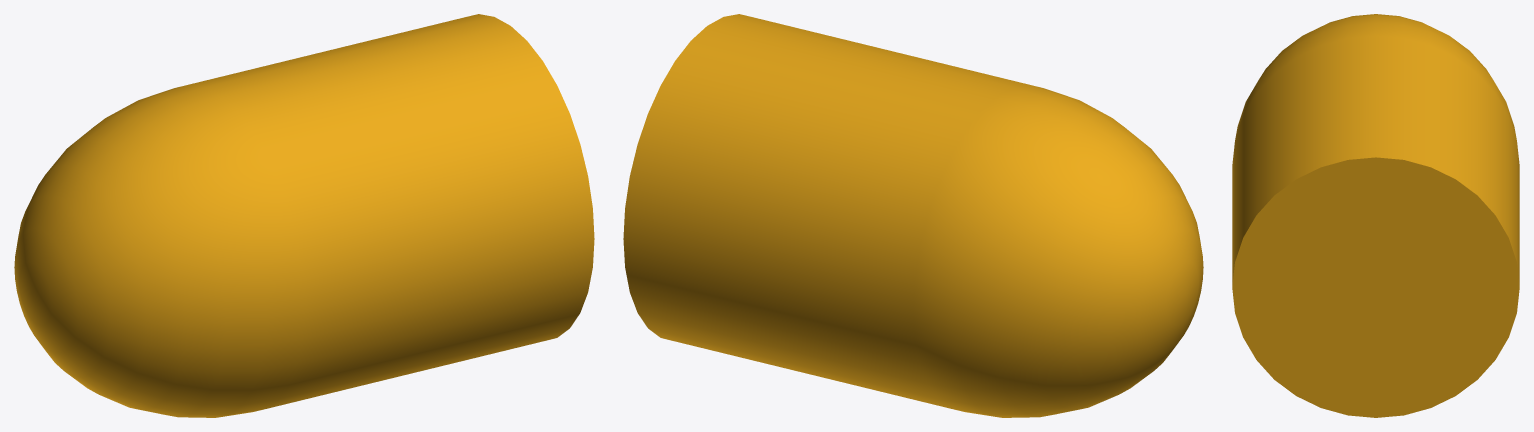
File: tank_shell.glb
The picture shows the model from 3 angles, left to right: view 1: azimuth 30°, elevation 25°; view 2: azimuth 150°, elevation 25°; view 3: azimuth 270°, elevation 25°; orthographic projection. The views are drawn at different scales.
Parts seen in each view (by area): view 1: Cylinder; view 2: Cylinder; view 3: Cylinder.
Part boxes in pixels (x1=…): Cylinder: x1=14, y1=14, x2=594, y2=417; Cylinder: x1=623, y1=14, x2=1203, y2=417; Cylinder: x1=1232, y1=14, x2=1519, y2=417.
Bounding box in the file's own units: 1.65 × 1 × 1.
